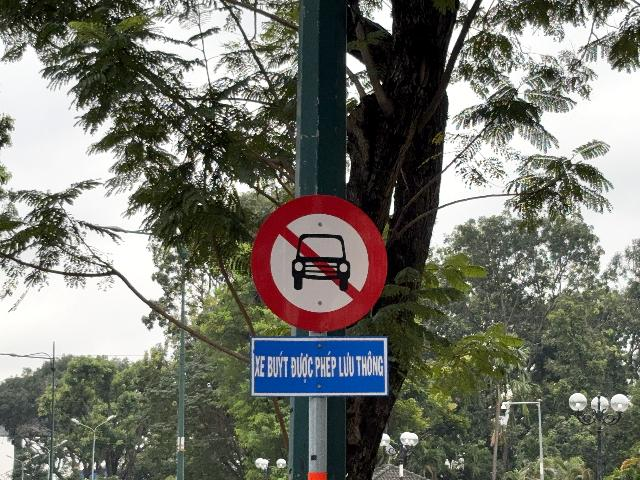cam-o-to: (252, 194, 387, 331)
